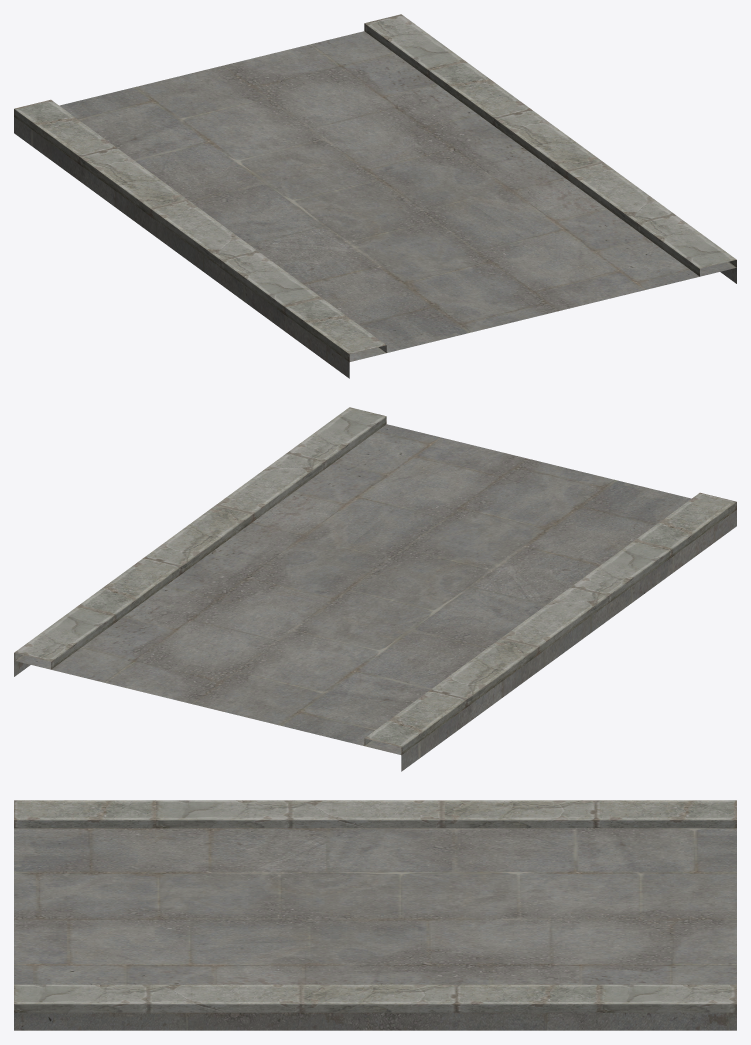
The model's file is bg_lut_lucastle_stair01a_sm_lkj.FBX.
The picture shows the model from 3 angles, top to bottom: view 1: azimuth 30°, elevation 25°; view 2: azimuth 150°, elevation 25°; view 3: azimuth 270°, elevation 25°; orthographic projection. The views are drawn at different scales.
Parts seen in each view (by area): view 1: bg_lut_lucastle_stair01a_sm_lkj; view 2: bg_lut_lucastle_stair01a_sm_lkj; view 3: bg_lut_lucastle_stair01a_sm_lkj.
Part boxes in pixels (x1,y1,x2,y2): bg_lut_lucastle_stair01a_sm_lkj: [14, 14, 736, 378]; bg_lut_lucastle_stair01a_sm_lkj: [14, 407, 736, 771]; bg_lut_lucastle_stair01a_sm_lkj: [14, 800, 736, 1030].
Size of the model in its own units: 256 by 15.46 by 384.
